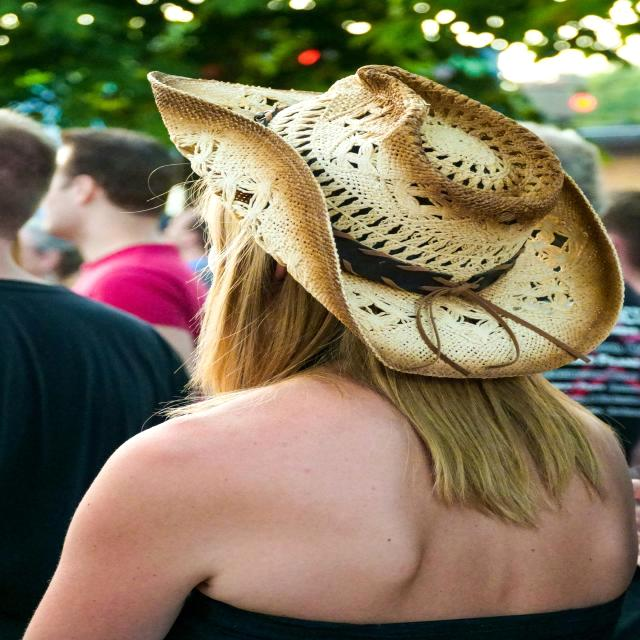no_hard_hat: (150, 66, 621, 379)
no_head_wear: (61, 128, 191, 216), (0, 109, 57, 282)
person: (21, 69, 640, 640), (0, 94, 197, 639), (37, 129, 209, 374)
